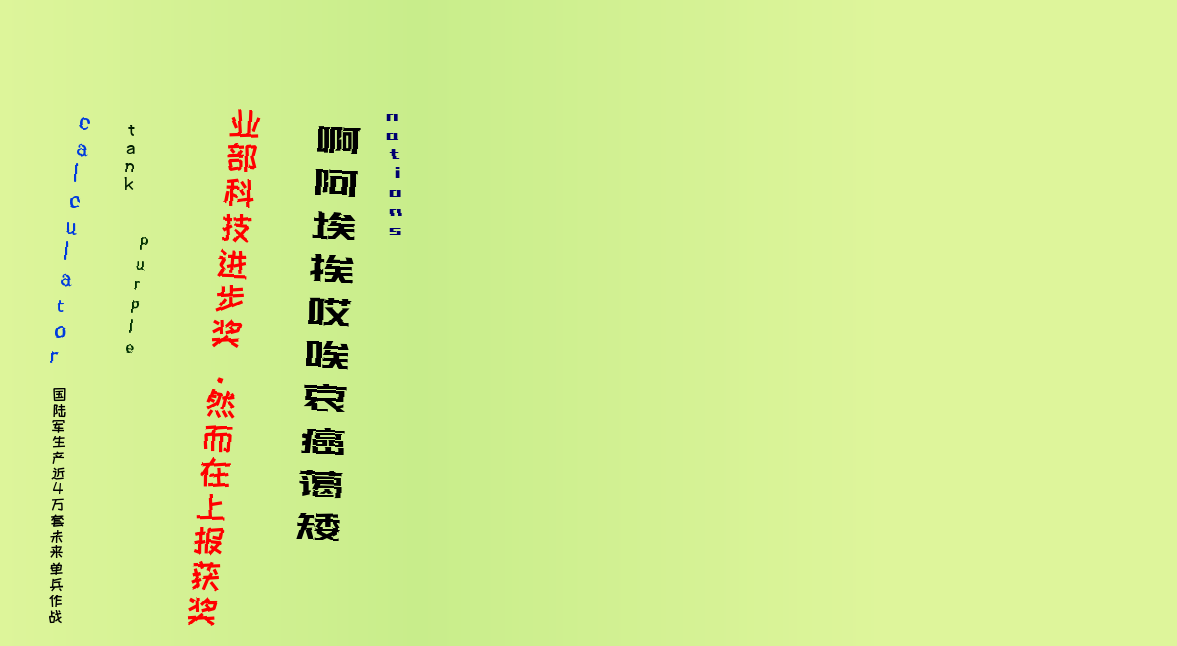v_text: (175, 104, 273, 630), (294, 104, 363, 556), (43, 104, 102, 366), (43, 387, 72, 625), (123, 227, 154, 356), (384, 104, 403, 237), (123, 104, 137, 206)
